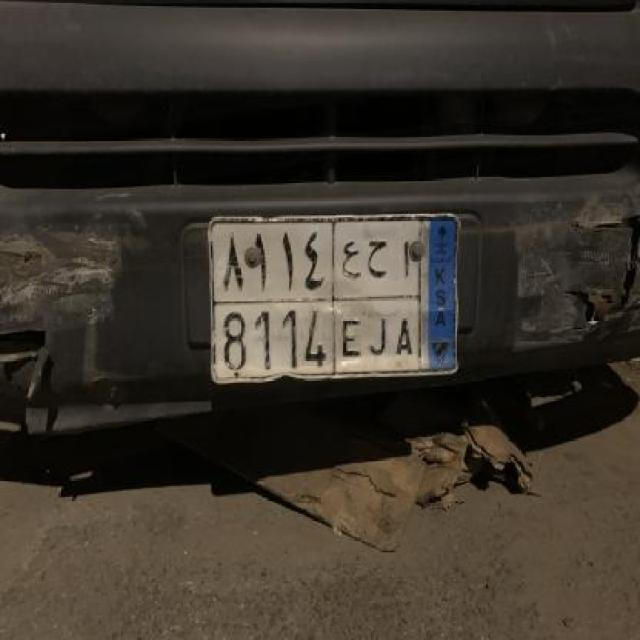license_plate: (204, 211, 462, 386)
